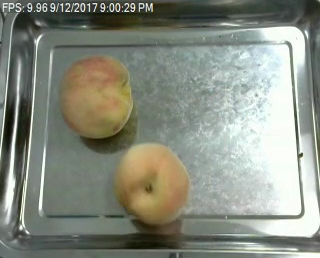Peach: (59, 53, 134, 138), (114, 142, 189, 226)
